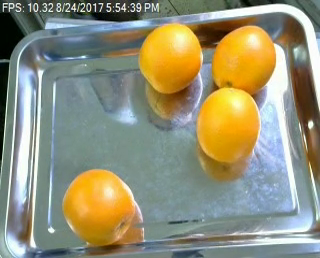Orange: (61, 169, 136, 246), (196, 87, 260, 163), (137, 21, 203, 92), (212, 25, 276, 93)
